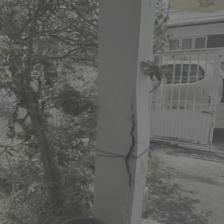High: (112, 90, 151, 201)
